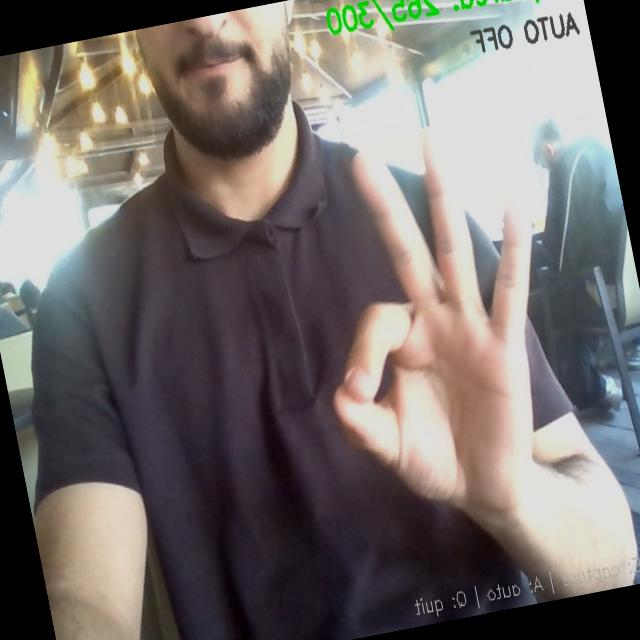Hand: (334, 143, 534, 514)
